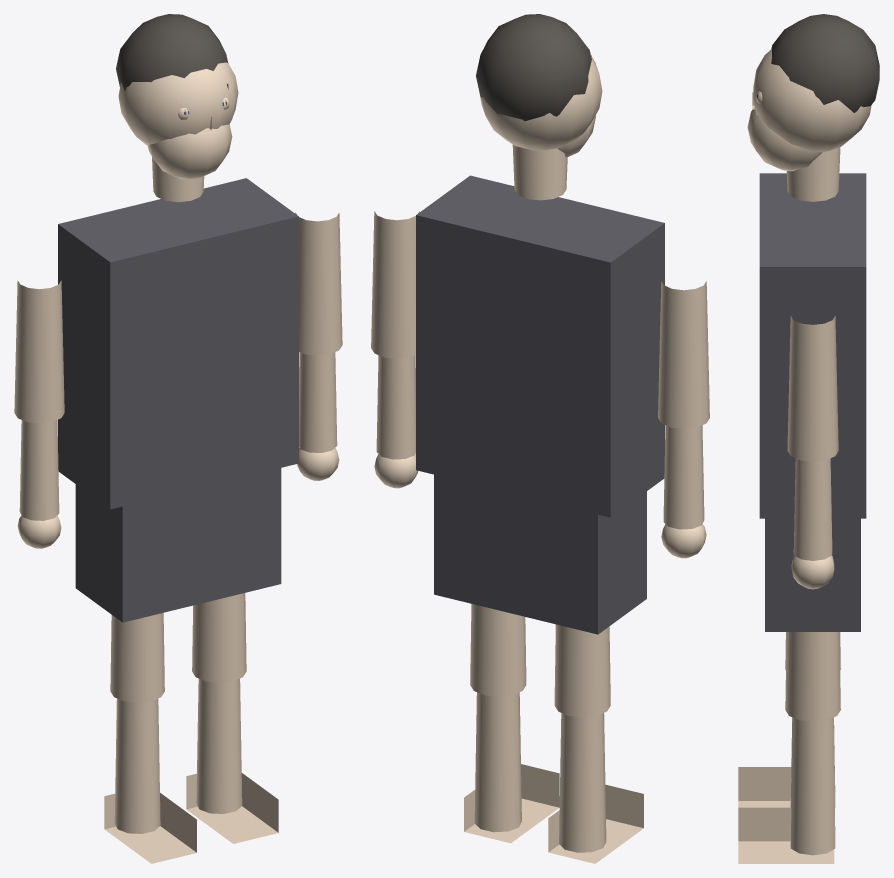
The model's file is body.glb.
3 views of the same model, side by side, from view 1: azimuth 30°, elevation 25°; view 2: azimuth 150°, elevation 25°; view 3: azimuth 270°, elevation 25° (orthographic). The views are drawn at different scales.
Visible parts, largest first — view 1: Cloth, Skin, Hair; view 2: Cloth, Skin, Hair; view 3: Skin, Cloth, Hair.
Part boxes in pixels (left/top/right/bottom): Cloth: left=58, top=178, right=298, bottom=622; Skin: left=14, top=62, right=342, bottom=863; Hair: left=116, top=14, right=228, bottom=90; Cloth: left=416, top=175, right=664, bottom=634; Skin: left=371, top=55, right=709, bottom=863; Hair: left=476, top=14, right=591, bottom=121; Skin: left=738, top=49, right=871, bottom=863; Cloth: left=759, top=173, right=866, bottom=631; Hair: left=771, top=14, right=879, bottom=112.
Size of the model in its own units: 0.7081 by 1.68 by 0.2646.
